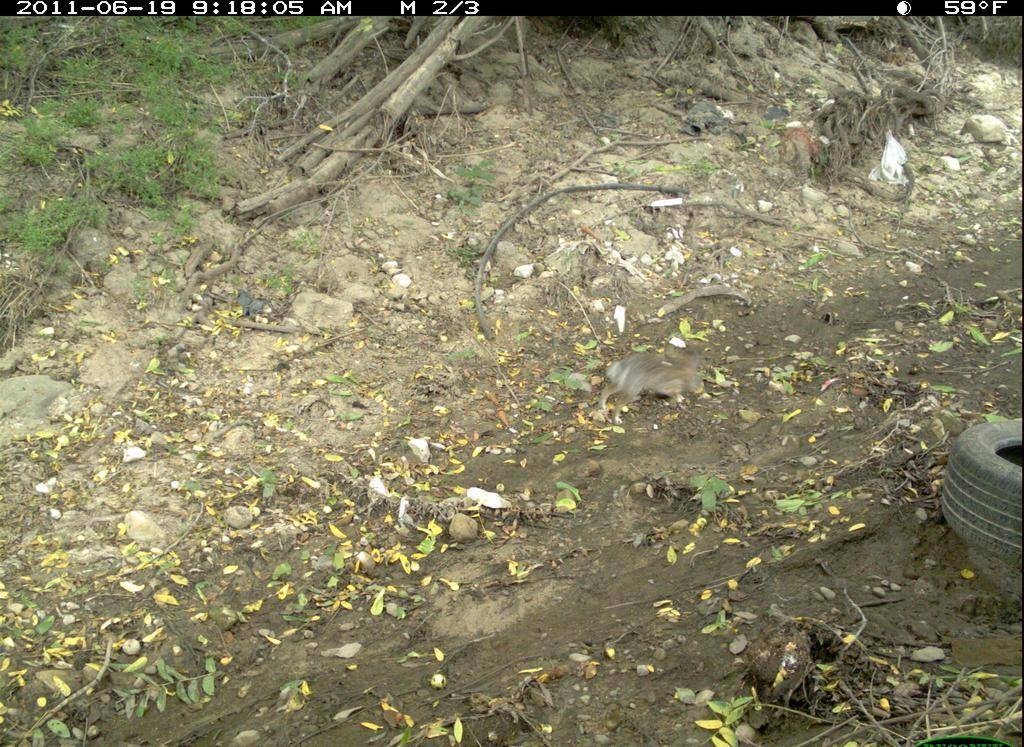rabbit: (585, 340, 713, 428)
